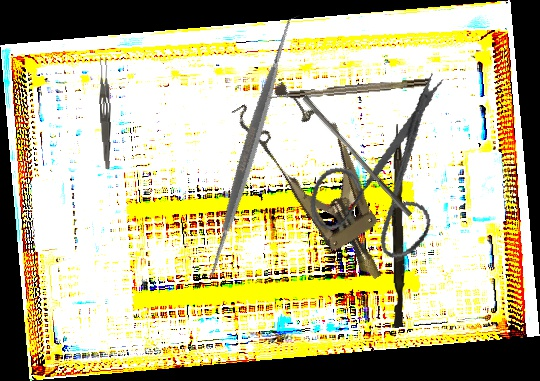Dressing Forceps: (97, 56, 115, 170)
Hook Surgical: (261, 78, 430, 102)
Iris Scissors: (286, 67, 481, 275)
Pusher: (297, 94, 418, 218), (386, 124, 409, 328)
Spatula Surgical: (117, 13, 385, 282)
Speculum: (228, 69, 415, 300)
